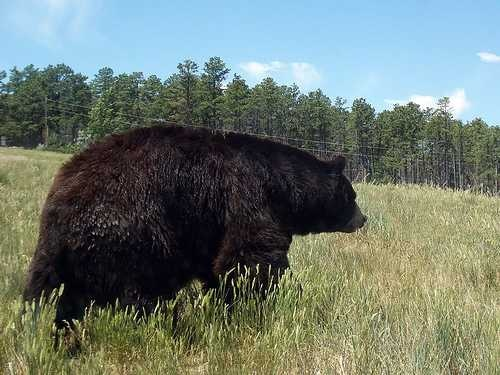bear: (264, 131, 392, 259)
